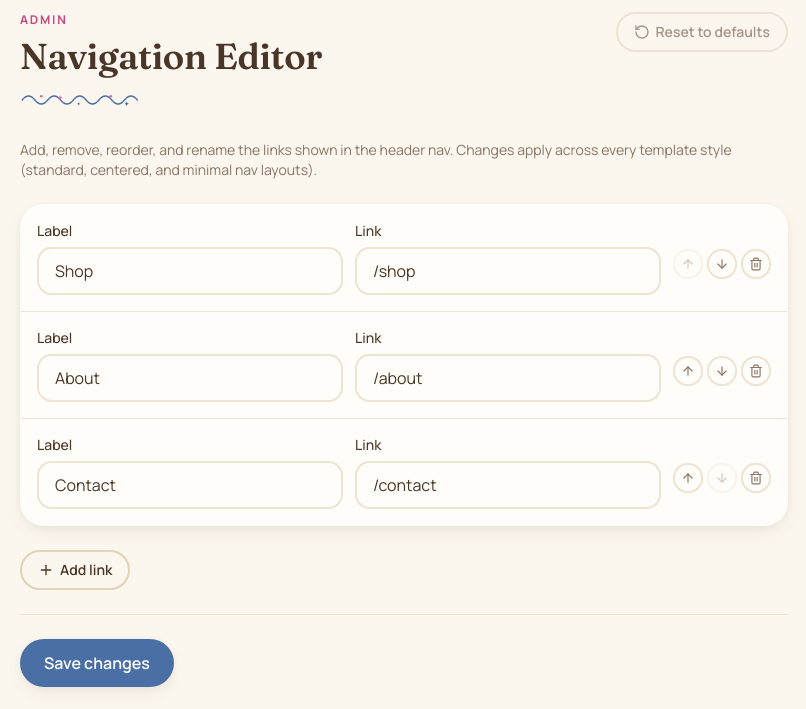
Test case: NavigationEditor › saves an edited label to localStorage and shows a confirmation
The image size is (806, 709).
Replace the text in the 1st field labelled "Label" with "Shop All" at (190, 271), box [37,247,343,295]
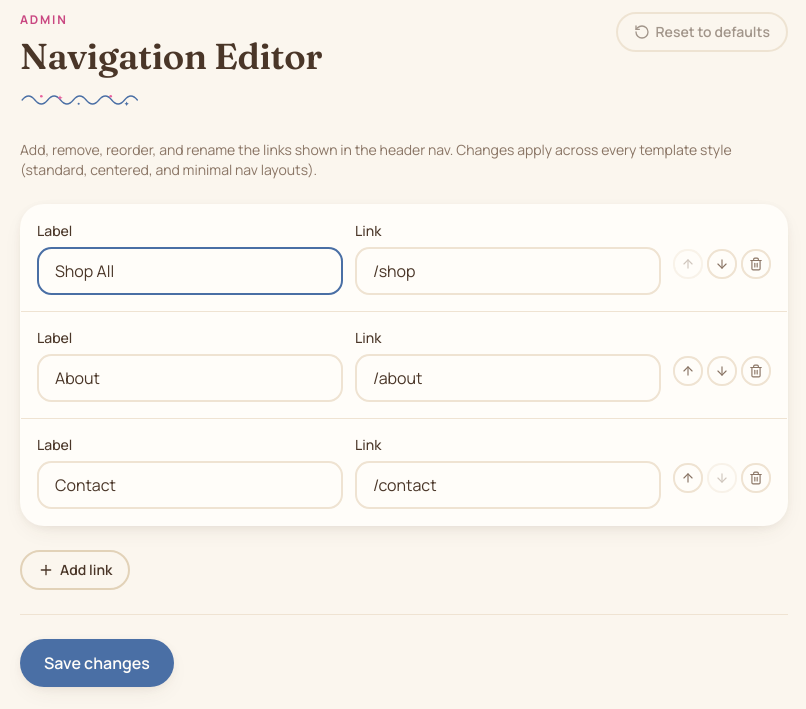
Click the button "Save changes" at (97, 663), box [20,639,174,687]
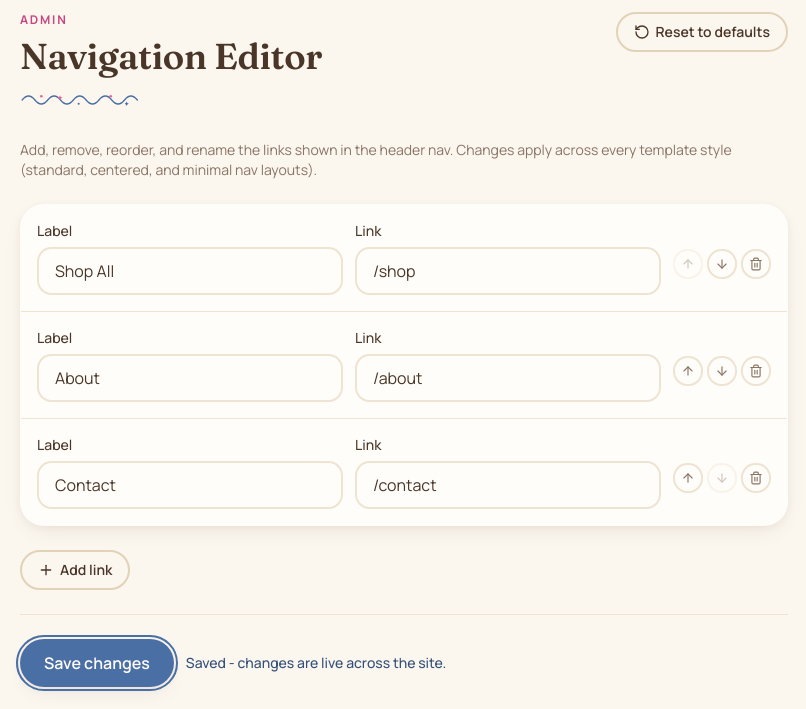
expect the message shows "Saved": met, box [186,653,446,672]
